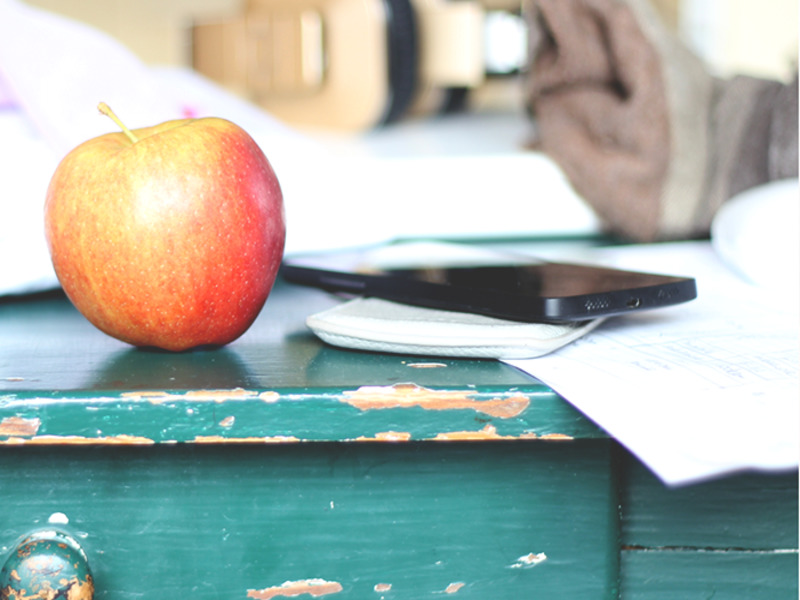apple: (39, 105, 291, 349)
